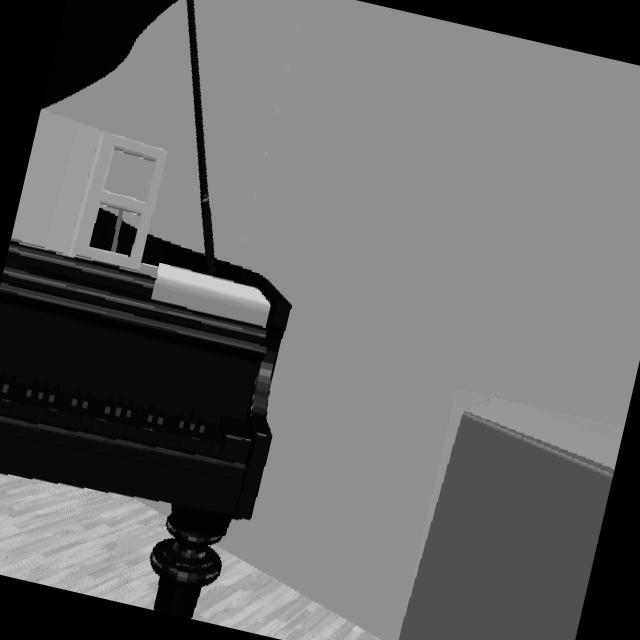cabinet: (399, 398, 618, 640)
